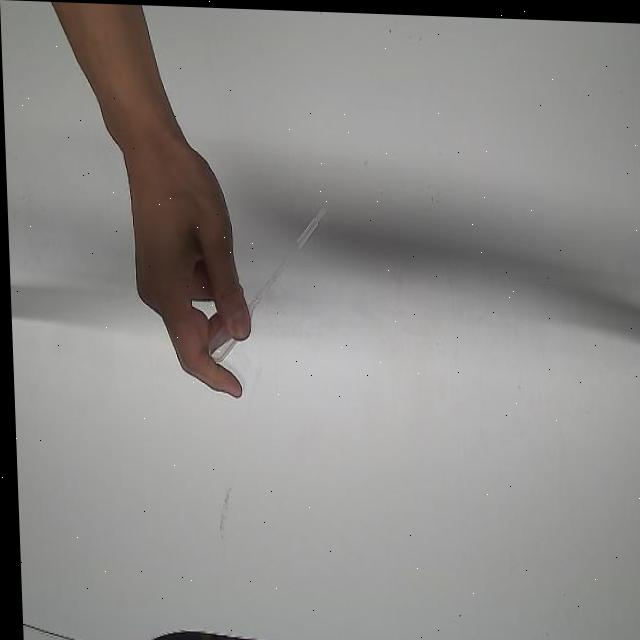Disposable Pasteur Pipette - Sealed: (199, 189, 338, 366)
